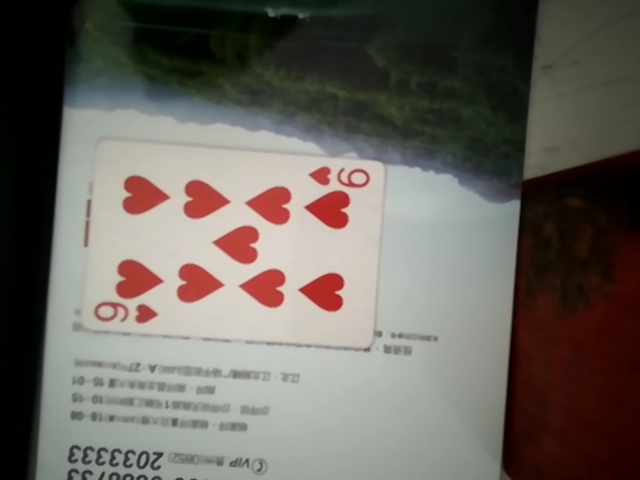hx 9: (80, 148, 382, 352)
